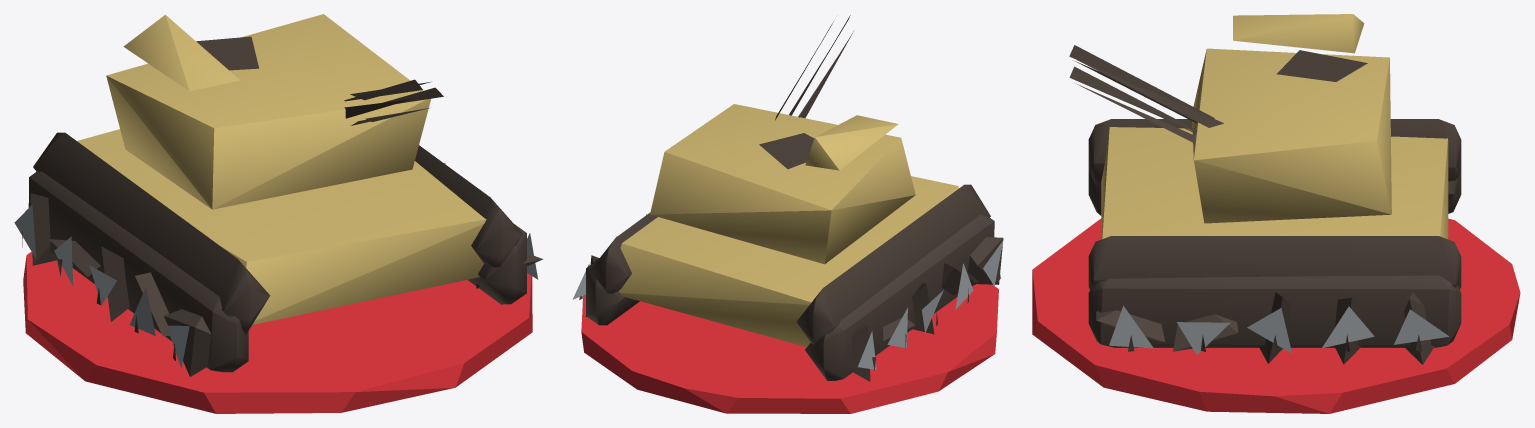
File: israel_anti_aircraft_lod1.glb
3 views of the same model, side by side, from view 1: azimuth 30°, elevation 25°; view 2: azimuth 150°, elevation 25°; view 3: azimuth 270°, elevation 25° (orthographic). The views are drawn at different scales.
Parts seen in each view (by area): view 1: body_hull, base_pedestal; view 2: body_hull, base_pedestal; view 3: body_hull, base_pedestal.
Part boxes in pixels (bbox=[...]): body_hull: bbox=[14, 14, 543, 376]; base_pedestal: bbox=[23, 252, 532, 413]; body_hull: bbox=[572, 15, 1003, 381]; base_pedestal: bbox=[581, 284, 998, 413]; body_hull: bbox=[1069, 14, 1461, 364]; base_pedestal: bbox=[1032, 218, 1520, 413].
Bounding box in the file's own units: 0.7751 × 0.4929 × 0.7751.
